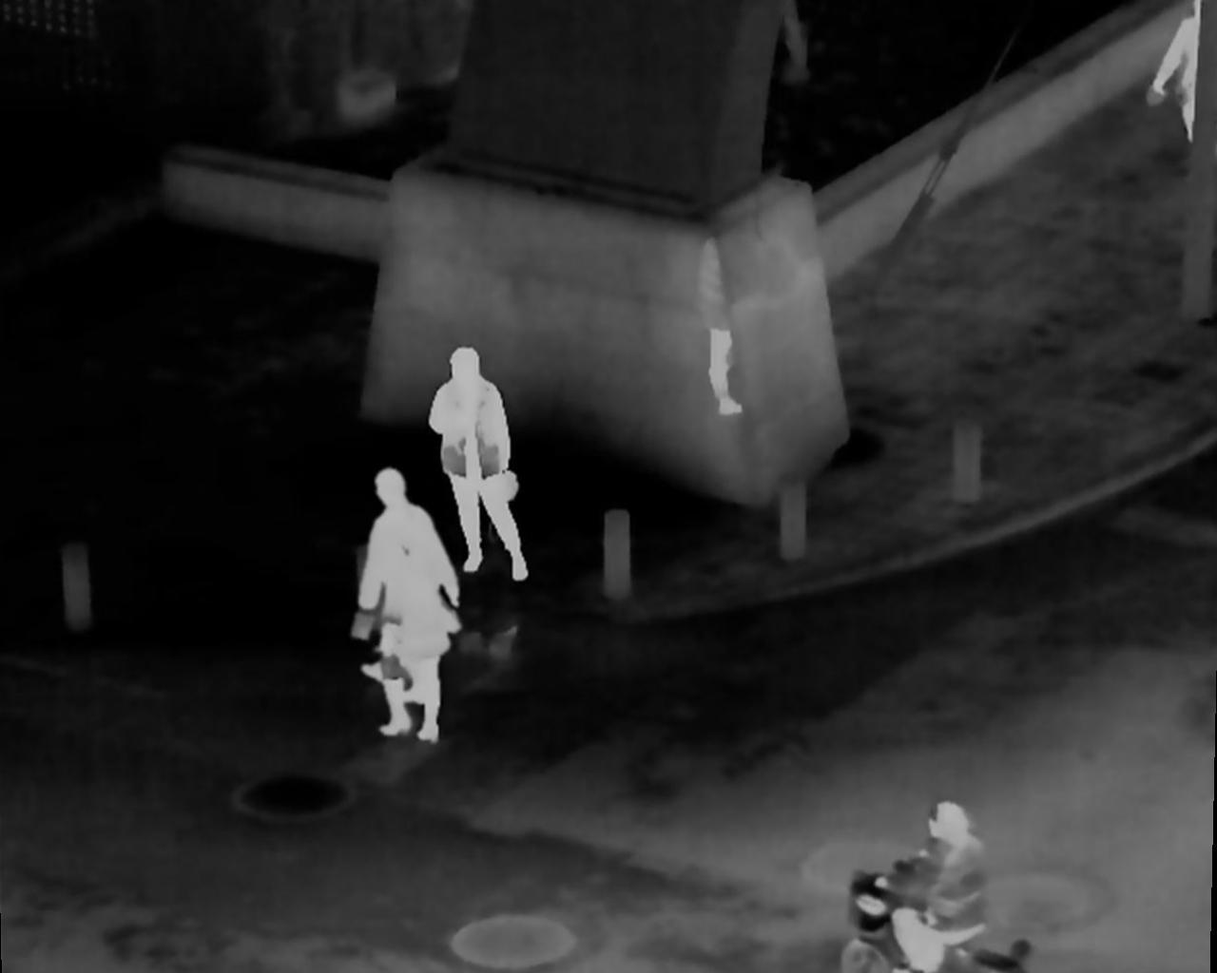person: (351, 468, 454, 741), (433, 344, 531, 582), (890, 804, 983, 969)
